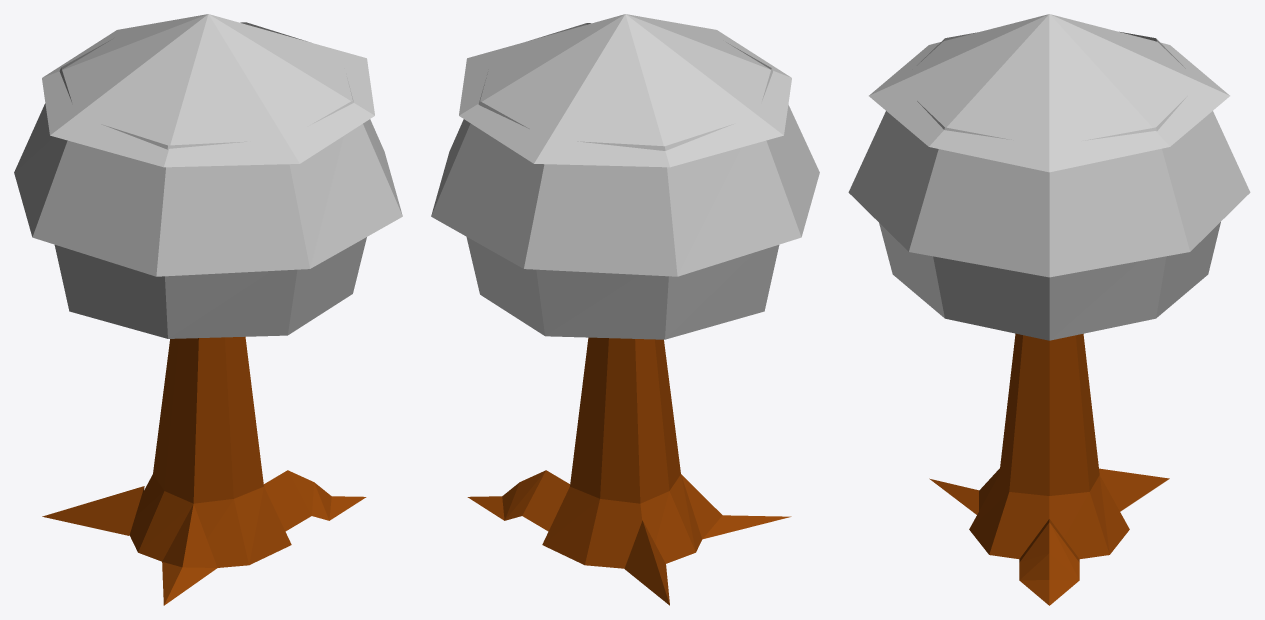
File: magictree.obj
3 renders of one model, left to right at view 1: azimuth 30°, elevation 25°; view 2: azimuth 150°, elevation 25°; view 3: azimuth 270°, elevation 25°, orthographic.
Visible parts, largest first — view 1: magictree_back; view 2: magictree_back; view 3: magictree_back.
Part boxes in pixels (x1,y1,x2,y2): magictree_back: [14, 14, 402, 605]; magictree_back: [431, 14, 819, 605]; magictree_back: [848, 14, 1250, 605].
Bounding box in the file's own units: 2 × 2.83 × 2.
